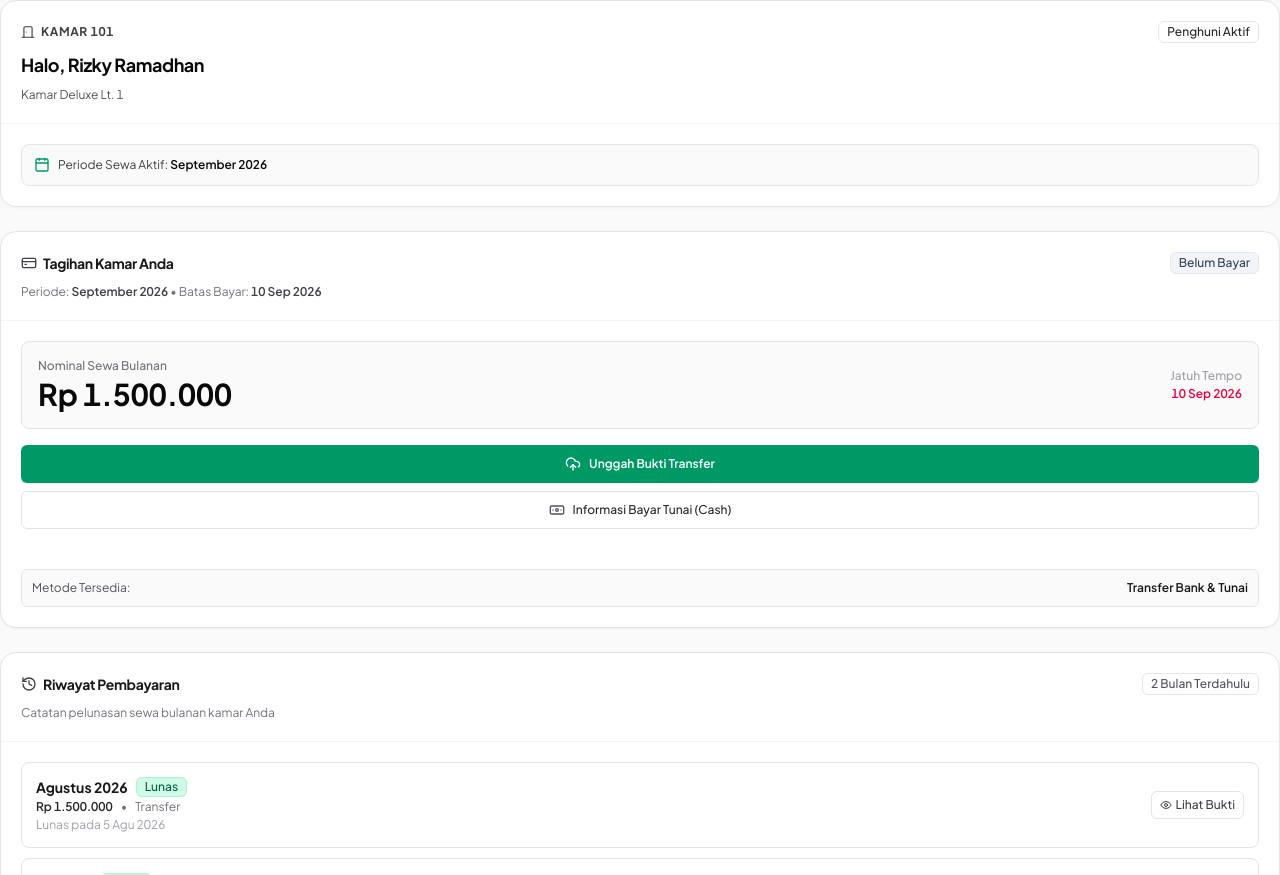
PenghuniDashboardView - Tiket #03 Kriteria Lengkap › 5. Tombol Bayar Tunai membuka dialog panduan pembayaran tunai dan kontak langsung ke Pemilik Kost
Click the button "Informasi Bayar Tunai (Cash)" at (640, 510), box top-left (21, 491), bottom-right (1259, 529)
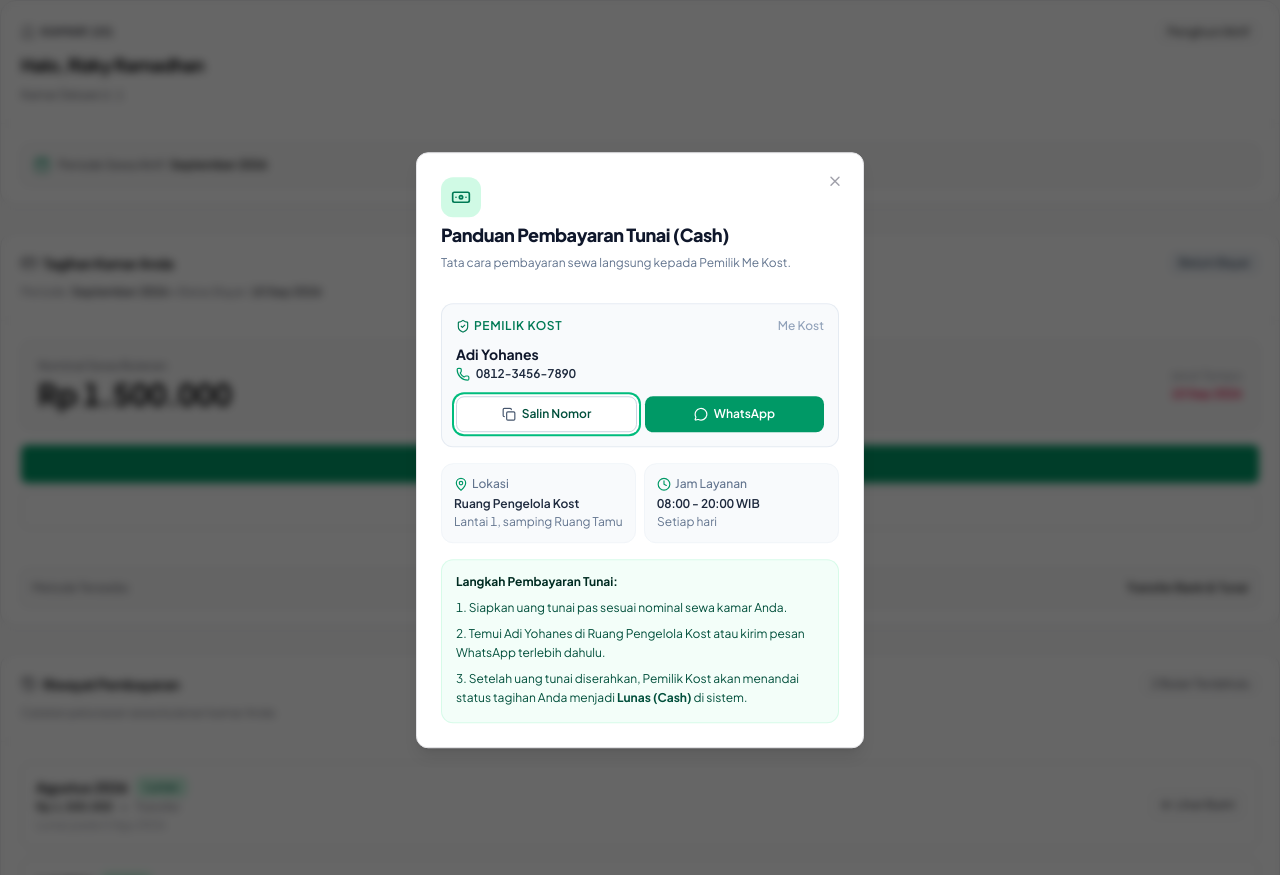
Expected: the heading "Panduan Pembayaran Tunai (Cash)" is shown, top-left (441, 223), bottom-right (729, 246)
Expected: the text "0812-3456-7890" is shown, top-left (476, 366), bottom-right (576, 382)
